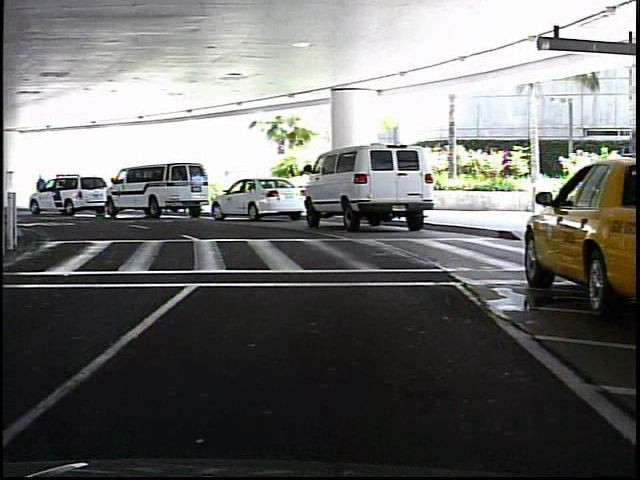person: (35, 172, 52, 209)
